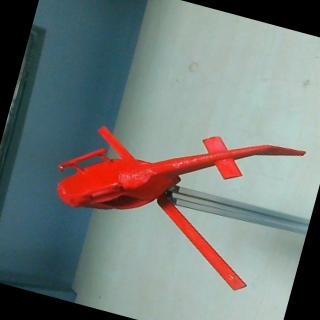Helicopter: (35, 89, 306, 300)
